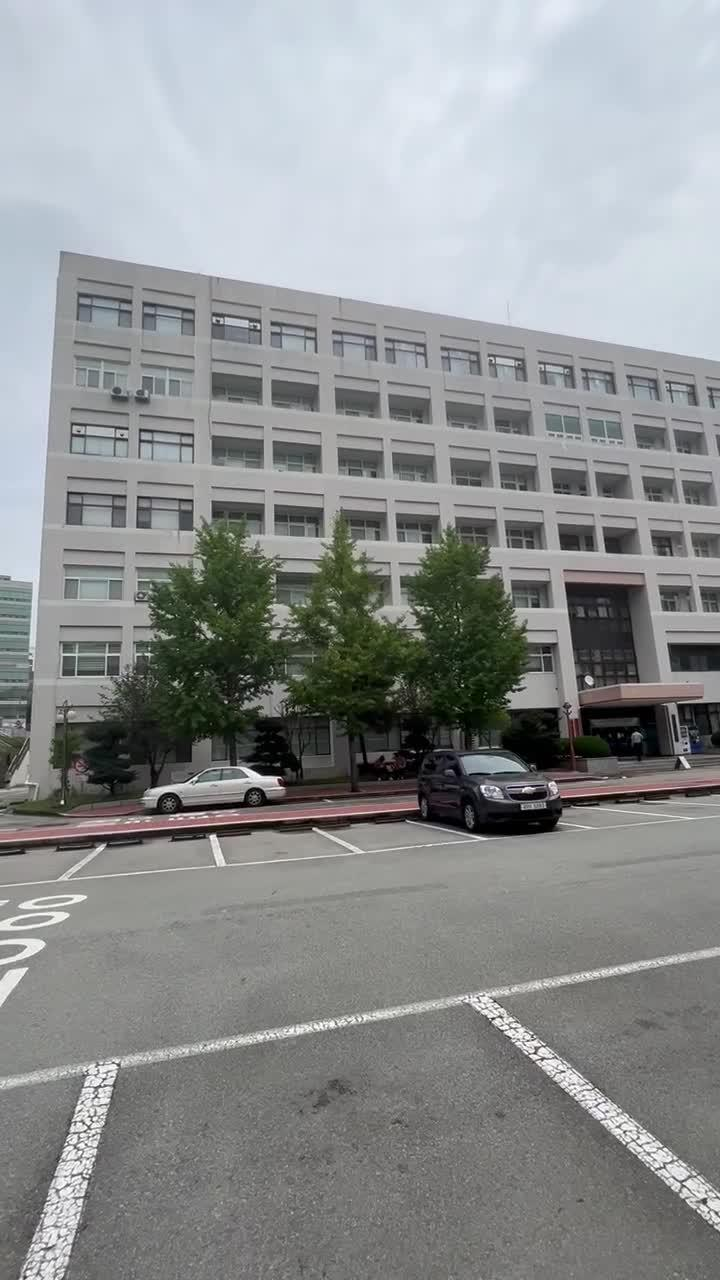building: (46, 260, 692, 540)
